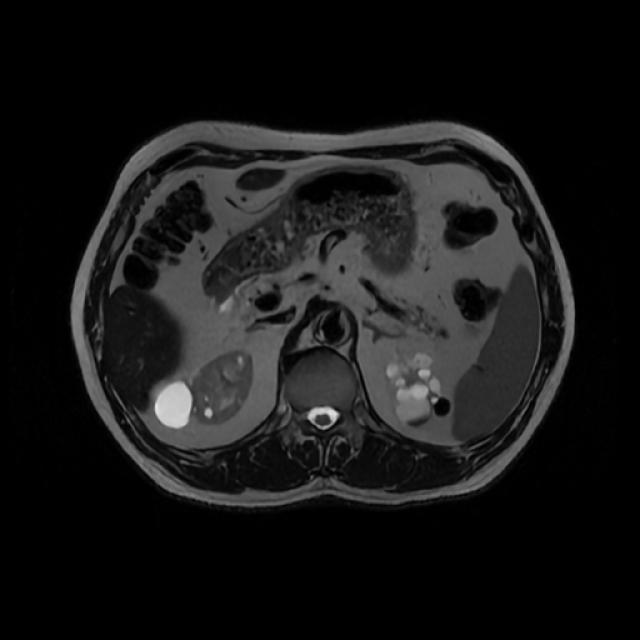sag: (154, 347, 253, 426)
sol: (386, 346, 450, 426)
